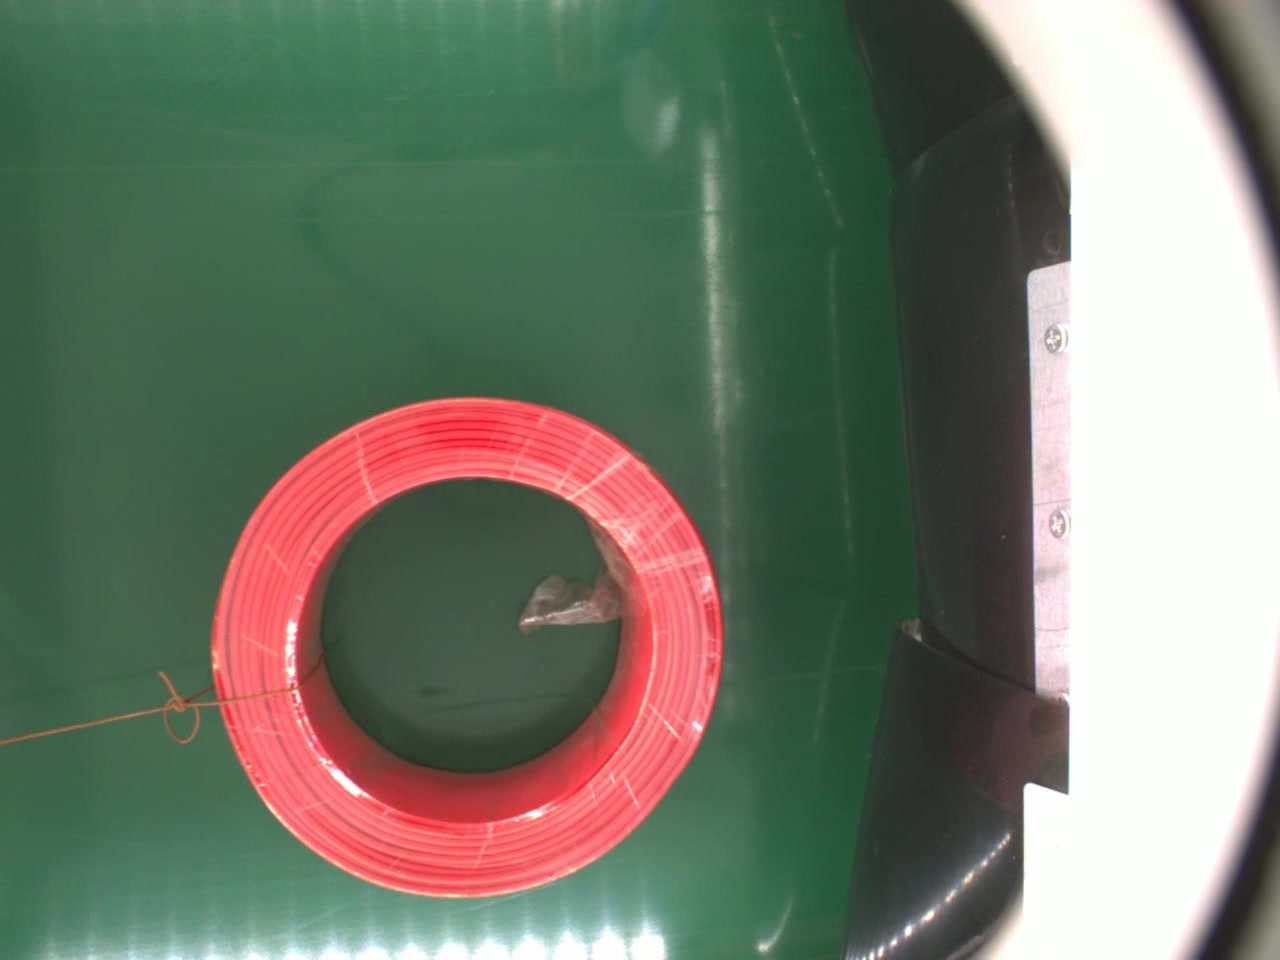red: (207, 387, 727, 899)
